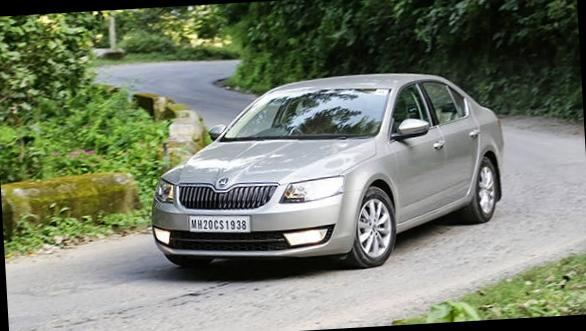plate: (185, 206, 258, 239)
